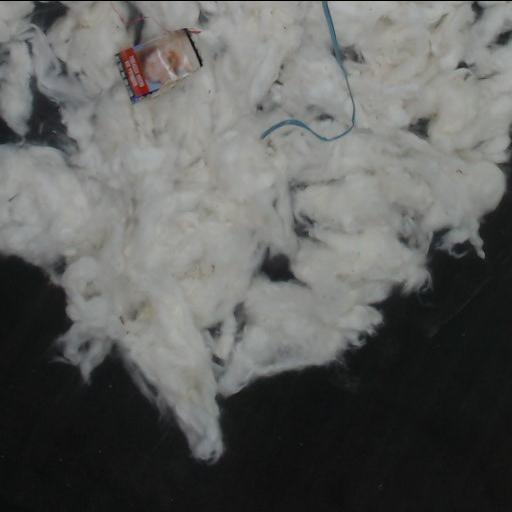conveyor belt: (0, 177, 511, 512), (27, 84, 64, 145), (32, 1, 64, 28), (262, 257, 293, 280), (0, 120, 19, 142)
cotton: (0, 1, 511, 461)
packet: (115, 29, 202, 103)
thread: (261, 1, 355, 141), (110, 1, 171, 34), (184, 28, 199, 56)
